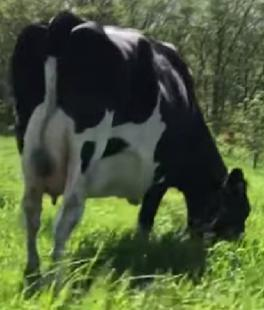cow: (11, 10, 251, 287)
